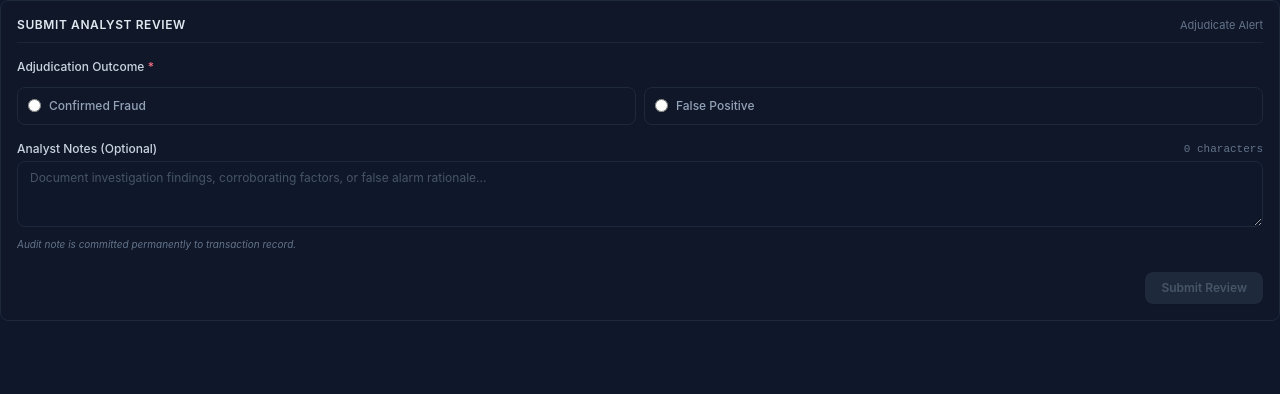
Scenario: Review workflow components › AnalystReviewForm › preserves user input (note and outcome) when submission fails (Condition 3)
Click the radio button labelled "False Positive" at (662,106), box [655,99,668,112]
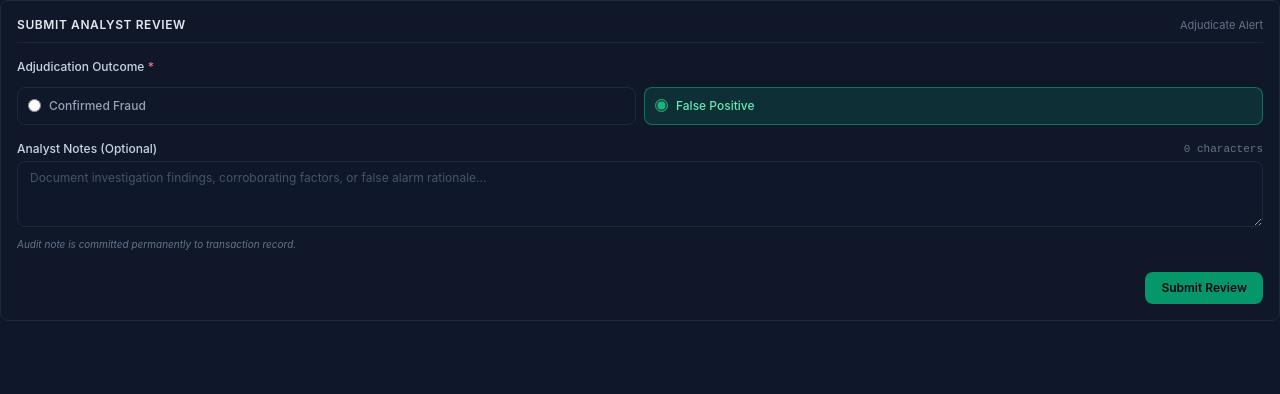
Replace the text in the text box with placeholder "Document investigation findings" with "Critical analyst investigation notes" at (640,194), box [17,161,1263,227]
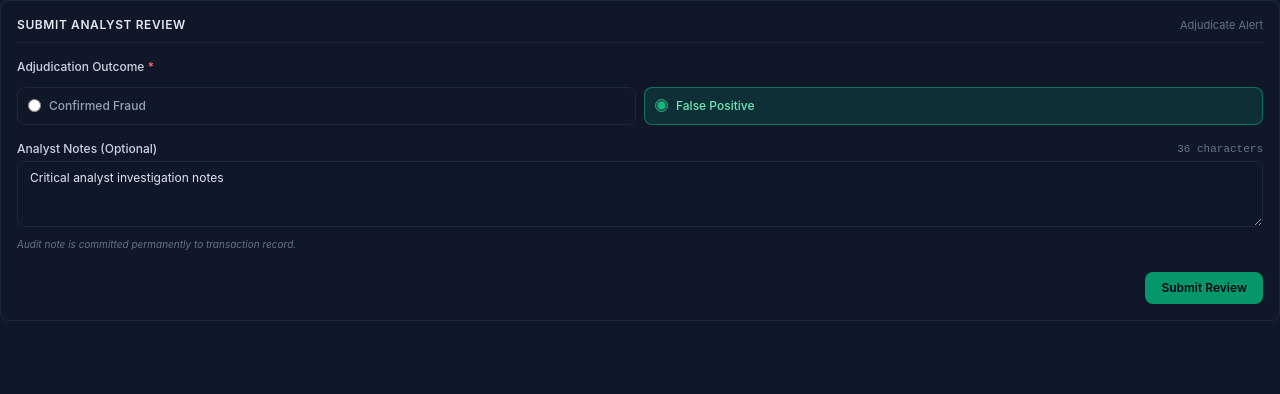
Click the button with test id "submit-review-btn" at (1204,288), box [1145,272,1263,304]
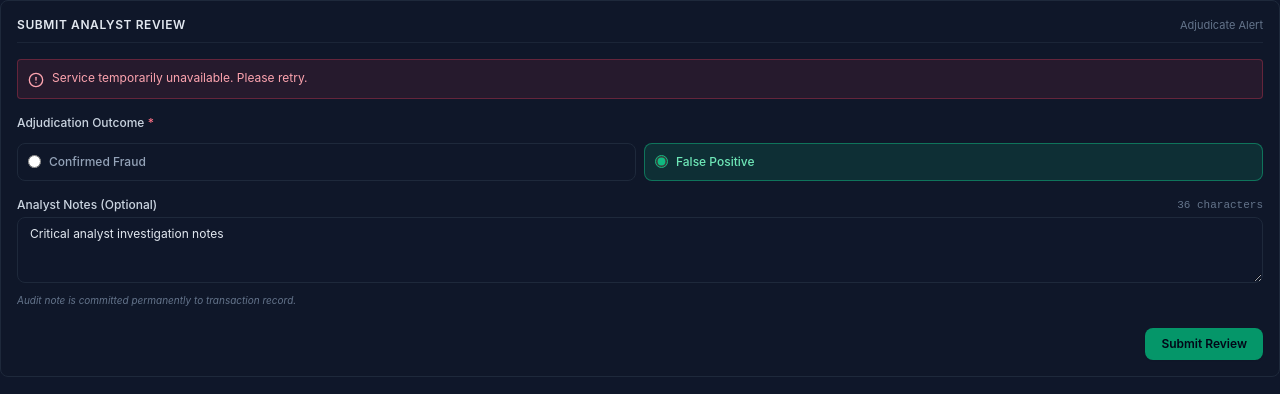
Check: the radio button labelled "False Positive" is checked, box [655,155,668,168]
Check: the message with test id "review-error-banner" reads "Service temporarily unavailable. Please retry.", box [52,70,308,84]
